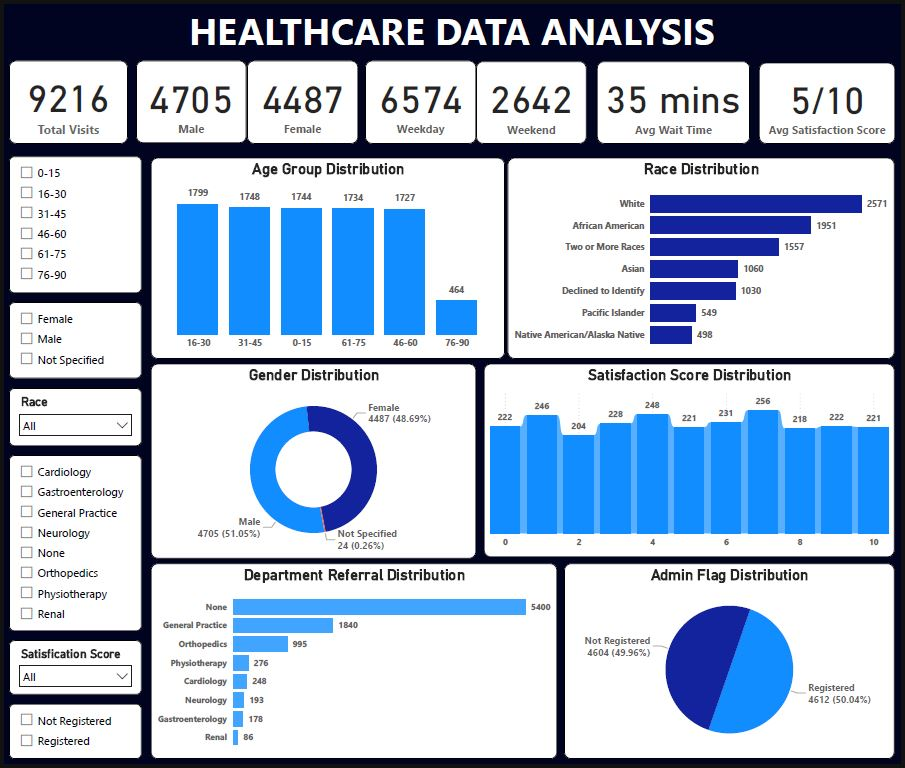

Layout of this report page (visuals, bound fields, positions):
{"tool":"powerbi","page":{"name":"Page 2","canvas":[1282,1086],"ordinal":1},"visuals":[{"type":"card","fields":{"Values":["Count(patient table.patient_id)"]},"box":[5.7,80,170,118.6],"z":0},{"type":"card","fields":{"Values":["CountNonNull(patient table.patient_gender)"]},"box":[187.7,79.8,158.6,118.6],"z":1000},{"type":"card","fields":{"Values":["CountNonNull(patient table.patient_gender)"]},"box":[347,79.7,159.4,118.8],"z":2000},{"type":"card","fields":{"Values":["date_time table.Avg Wait Time"]},"box":[847.8,81.2,218.8,117.4],"z":3000},{"type":"card","fields":{"Values":["date_time table.Avg Satisfication Score"]},"box":[1079.7,82.6,195.7,115.9],"z":4000},{"type":"card","fields":{"Values":["CountNonNull(date_time table.weekday/weekend)"]},"box":[515.9,79.7,159.4,118.8],"z":5000},{"type":"card","fields":{"Values":["CountNonNull(date_time table.weekday/weekend)"]},"box":[675.4,81.2,158,117.4],"z":6000},{"type":"textbox","box":[0,0,1280,74.3],"z":7000},{"type":"slicer","fields":{"Values":["patient table.patient_race"]},"box":[5.8,549.3,189.9,82.6],"z":8000},{"type":"slicer","fields":{"Values":["patient table.age_group"]},"box":[5.8,217.4,189.9,195.7],"z":9000},{"type":"slicer","fields":{"Values":["patient table.patient_gender"]},"box":[5.8,426.1,189.9,108.7],"z":10000},{"type":"slicer","fields":{"Values":["activity table.department_referral"]},"box":[5.8,644.9,189.9,252.2],"z":11000},{"type":"slicer","fields":{"Values":["activity table.satisfication_score"]},"box":[5.8,910.1,189.9,78.3],"z":12000},{"type":"lineStackedColumnComboChart","title":"Age Group Distribution","fields":{"Category":["patient table.age_bucket"],"Y":["CountNonNull(patient table.age_bucket)"]},"box":[208.7,218.8,507.2,288.4],"z":13000},{"type":"clusteredBarChart","title":"Race Distribution","fields":{"Category":["patient table.patient_race"],"Y":["CountNonNull(patient table.patient_race)"]},"box":[720.3,218.8,553.6,288.4],"z":14000},{"type":"donutChart","title":"Gender Distribution","fields":{"Category":["patient table.patient_gender"],"Y":["CountNonNull(patient table.patient_gender)"]},"box":[208.7,514.5,466.7,278.3],"z":15000},{"type":"clusteredBarChart","title":"Department Referral Distribution","fields":{"Category":["activity table.department_referral"],"Y":["CountNonNull(activity table.department_referral)"]},"box":[208.7,800,582.6,279.7],"z":16000},{"type":"columnChart","title":"Satisfaction Score Distribution","fields":{"Category":["activity table.satisfication_score"],"Y":["CountNonNull(activity table.satisfication_score)"]},"box":[685.5,514.5,588.4,276.8],"z":17000},{"type":"pieChart","title":"Admin Flag Distribution","fields":{"Category":["activity table.patient_admin_flag"],"Y":["CountNonNull(activity table.patient_admin_flag)"]},"box":[801.4,800,472.5,279.7],"z":18000},{"type":"slicer","fields":{"Values":["activity table.patient_admin_flag"]},"box":[5.8,1001.4,189.9,78.3],"z":19000}]}

Visuals, with their boxes in screenshot pixels (x1, y1, x2, y2), scaled from the page's 1282x1086 canvas onto the 905x768 screenshot:
card - Count(patient table.patient_id): <region>4, 57, 124, 140</region>
card - CountNonNull(patient table.patient_gender): <region>133, 56, 244, 140</region>
card - CountNonNull(patient table.patient_gender): <region>245, 56, 357, 140</region>
card - date_time table.Avg Wait Time: <region>598, 57, 753, 140</region>
card - date_time table.Avg Satisfication Score: <region>762, 58, 900, 140</region>
card - CountNonNull(date_time table.weekday/weekend): <region>364, 56, 477, 140</region>
card - CountNonNull(date_time table.weekday/weekend): <region>477, 57, 588, 140</region>
textbox: <region>0, 0, 904, 53</region>
slicer - patient table.patient_race: <region>4, 388, 138, 447</region>
slicer - patient table.age_group: <region>4, 154, 138, 292</region>
slicer - patient table.patient_gender: <region>4, 301, 138, 378</region>
slicer - activity table.department_referral: <region>4, 456, 138, 634</region>
slicer - activity table.satisfication_score: <region>4, 644, 138, 699</region>
"Age Group Distribution" lineStackedColumnComboChart: <region>147, 155, 505, 359</region>
"Race Distribution" clusteredBarChart: <region>508, 155, 899, 359</region>
"Gender Distribution" donutChart: <region>147, 364, 477, 561</region>
"Department Referral Distribution" clusteredBarChart: <region>147, 566, 559, 764</region>
"Satisfaction Score Distribution" columnChart: <region>484, 364, 899, 560</region>
"Admin Flag Distribution" pieChart: <region>566, 566, 899, 764</region>
slicer - activity table.patient_admin_flag: <region>4, 708, 138, 764</region>
